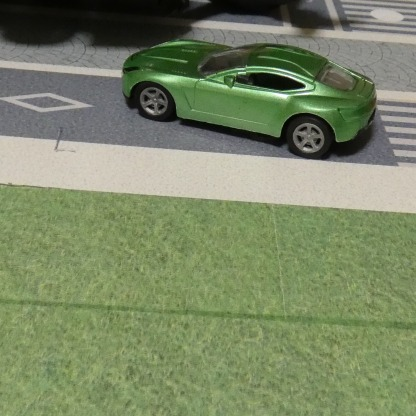car: (117, 38, 376, 160)
